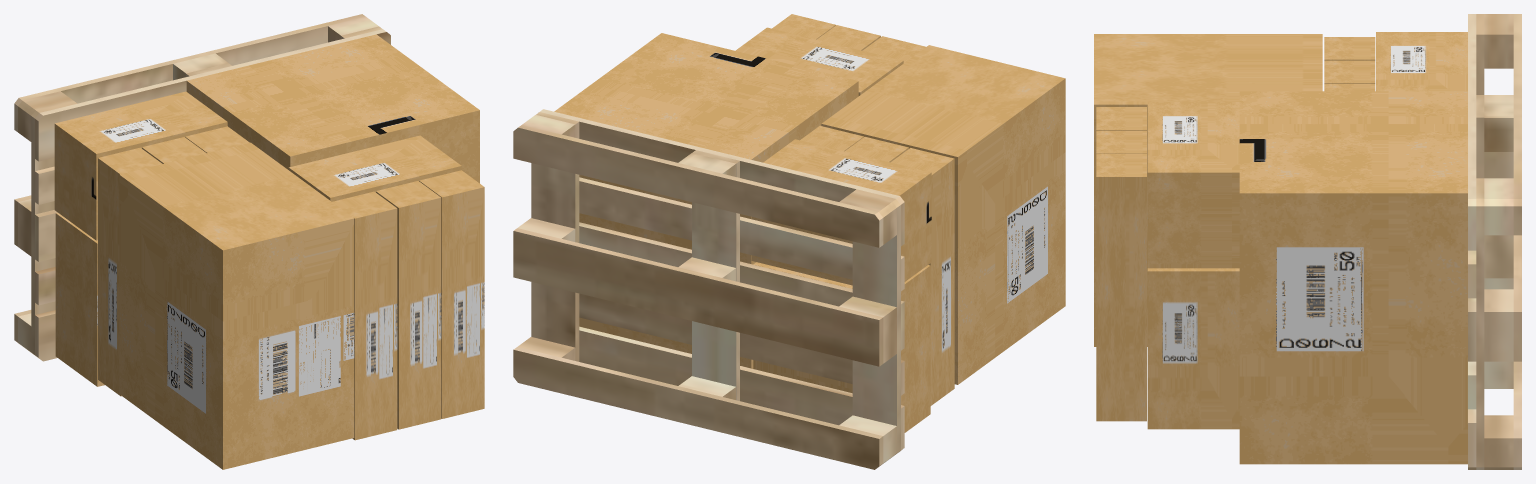
Rendered from euro_pallet_w_stacked_boxes.dae.
3 renders of one model, left to right at view 1: azimuth 30°, elevation 25°; view 2: azimuth 150°, elevation 25°; view 3: azimuth 270°, elevation 25°, orthographic. The views are drawn at different scales.
Visible parts, largest first — view 1: node; view 2: node; view 3: node.
Boxes of the visible parts, x1,y1,x2,y2 form: node: (14,14,484,469); node: (513,14,1065,469); node: (1094,14,1521,469).
Size of the model in its own units: 1.2 by 0.8 by 1.14.
